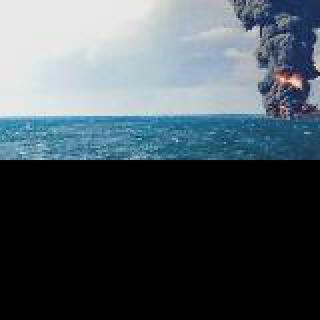fire: (196, 0, 320, 72), (274, 70, 302, 86)
